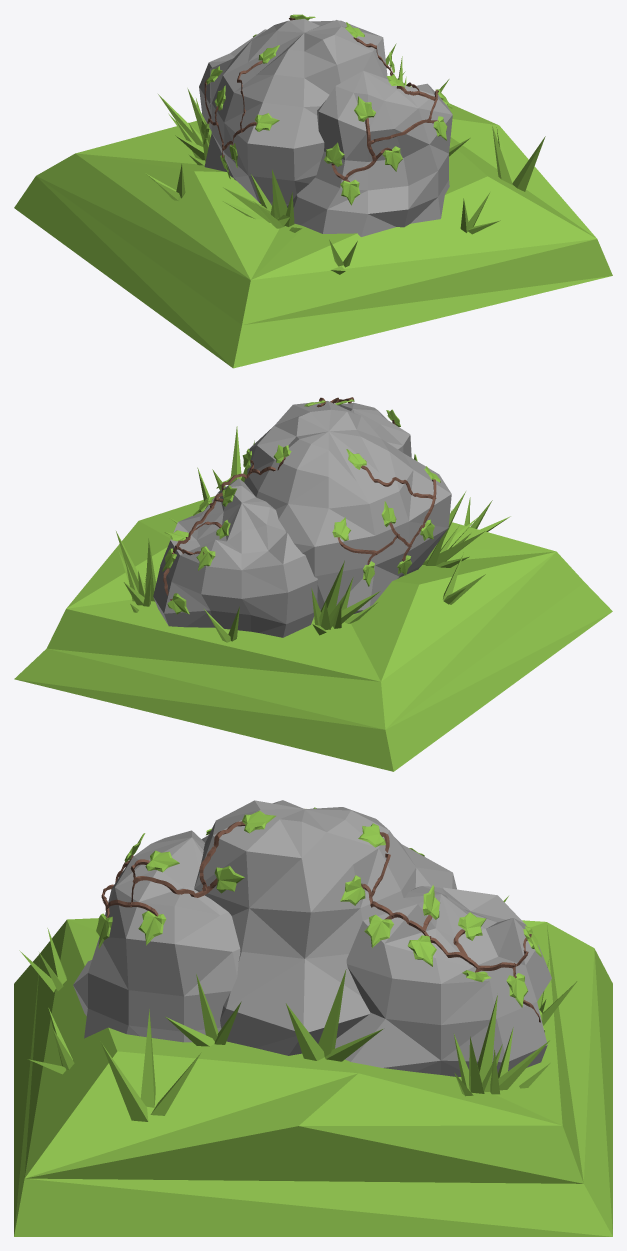
File: Stone.glb
The picture shows the model from 3 angles, top to bottom: view 1: azimuth 30°, elevation 25°; view 2: azimuth 150°, elevation 25°; view 3: azimuth 270°, elevation 25°; orthographic projection. The views are drawn at different scales.
Visible parts, largest first — view 1: Node; view 2: Node; view 3: Node.
Boxes of the visible parts, bbox=[...] form: Node: bbox=[14, 14, 612, 368]; Node: bbox=[14, 397, 612, 771]; Node: bbox=[14, 800, 612, 1236].
Bounding box in the file's own units: 2.26 × 1.28 × 2.26.
